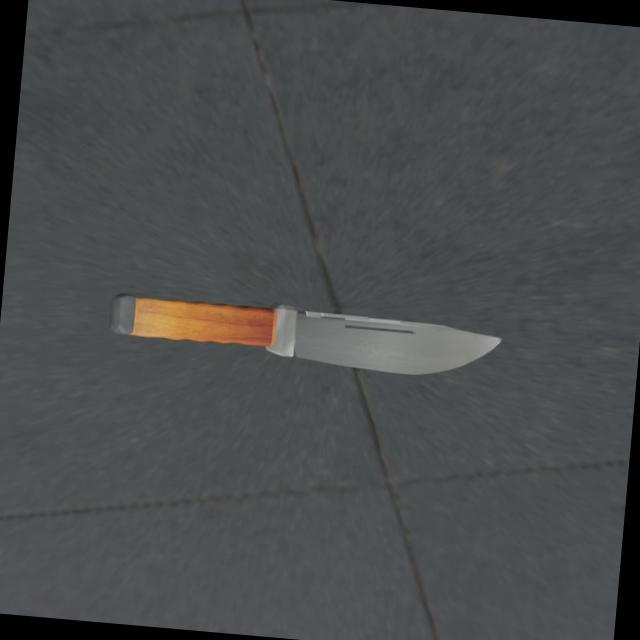knife: (138, 292, 295, 351)
